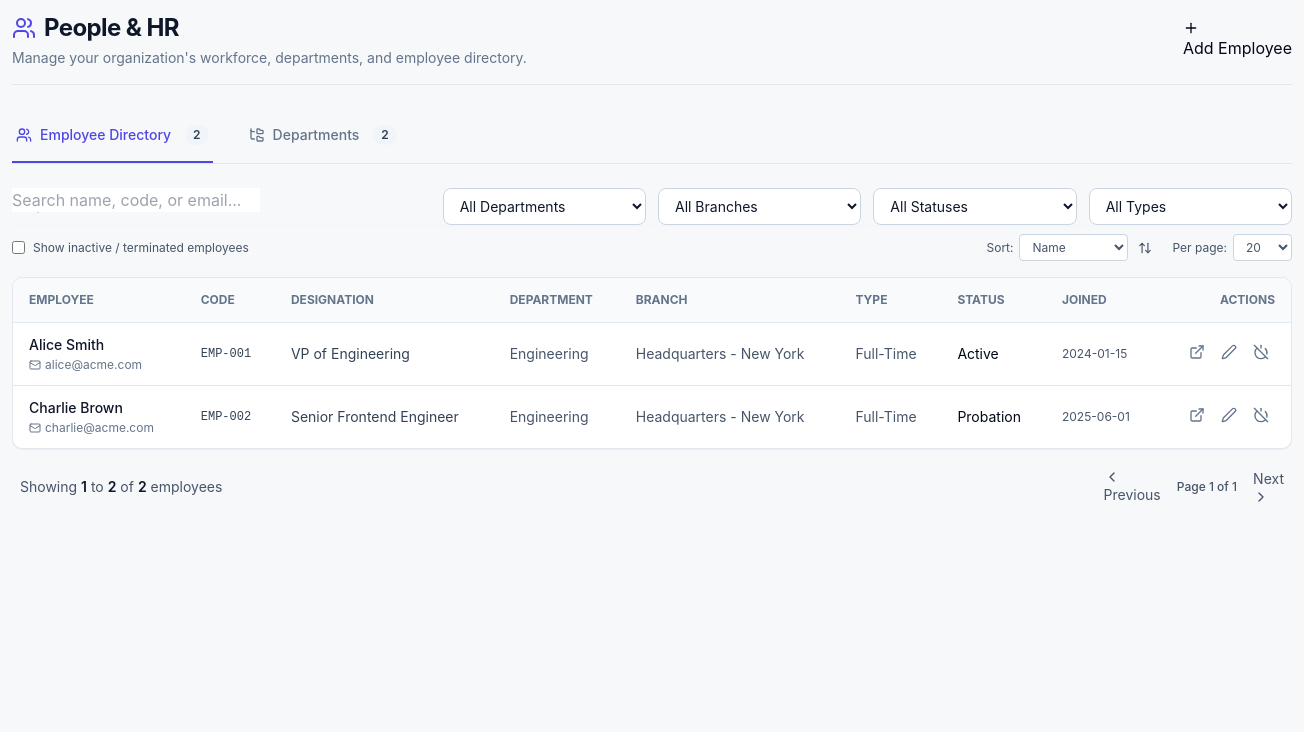
Test: EmployeesPage Component › handles tab switching between Directory and Departments
Expected: the text "Alice Smith" is shown, [29,336,104,353]
# Click Departments tab
Click the button "Departments 2".
click(323, 136)  # box [245,109,401,163]
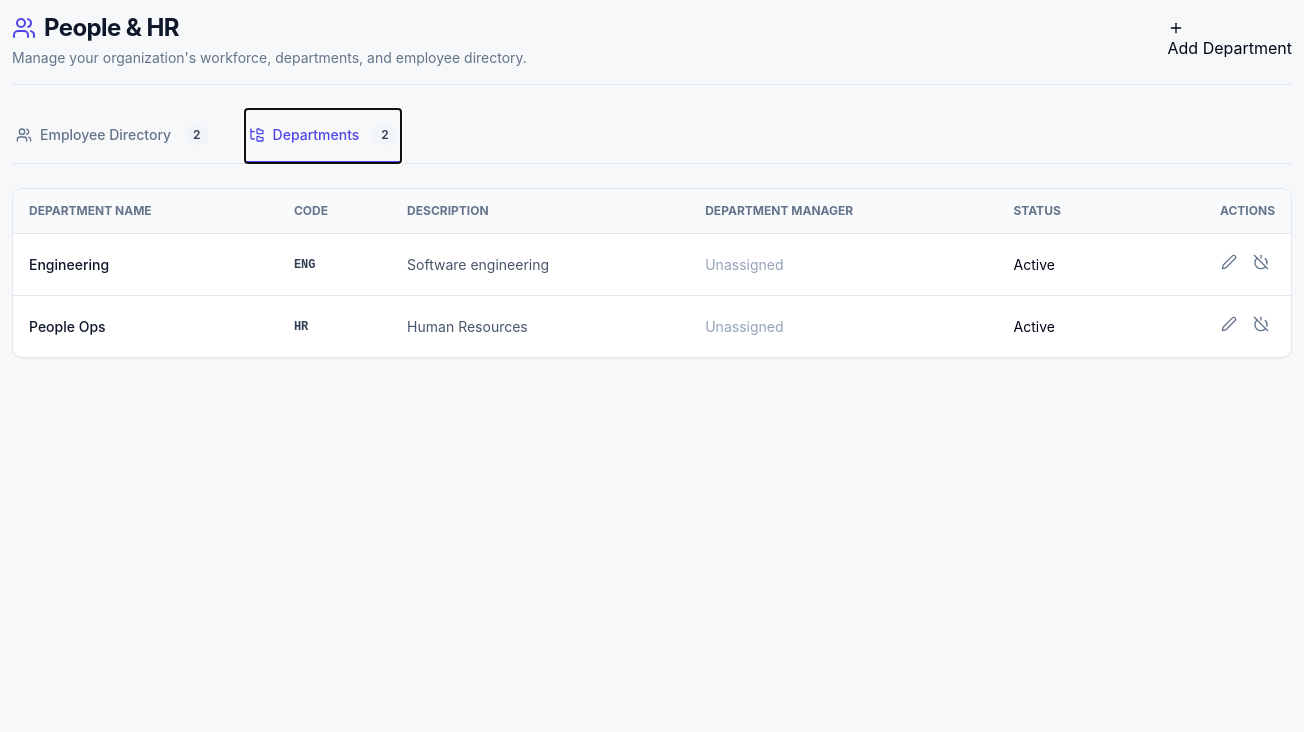
Result: the text "People Ops" is shown at [13,296,278,357]
Result: the text "HR" is shown at [278,296,391,357]
Result: the text "Software engineering" is shown at [391,234,689,296]
